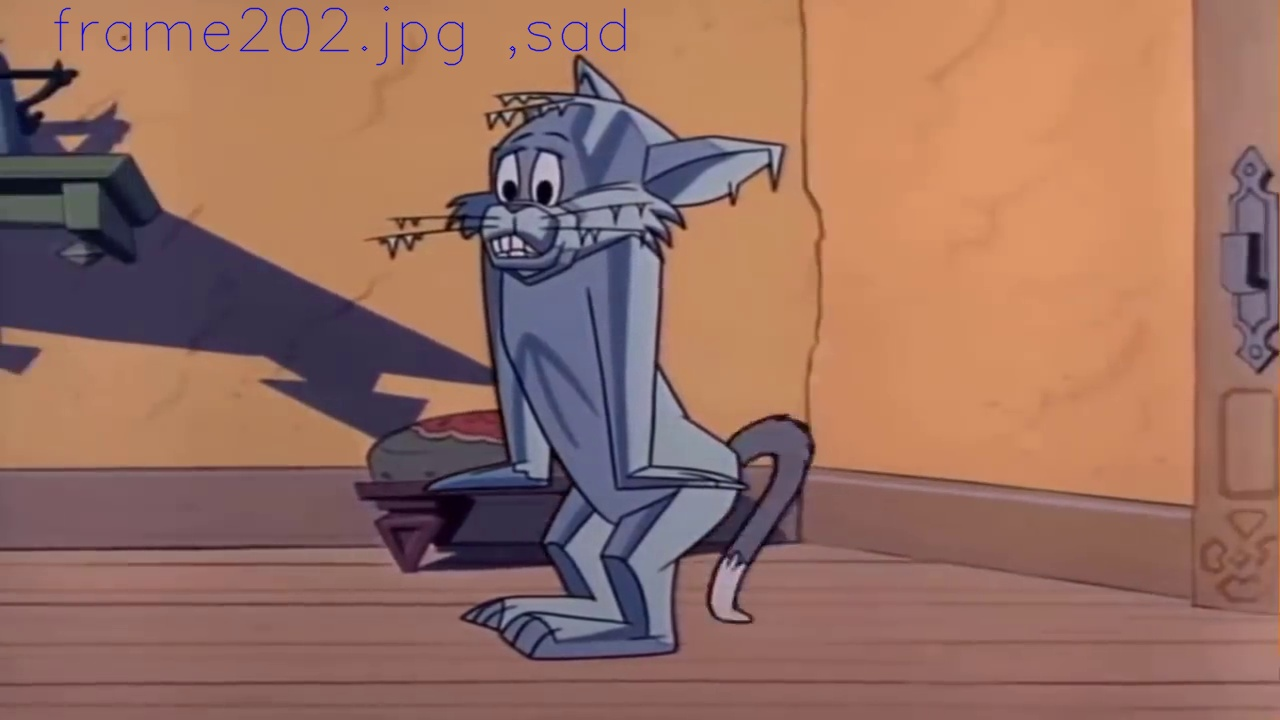sad: (482, 129, 572, 269)
